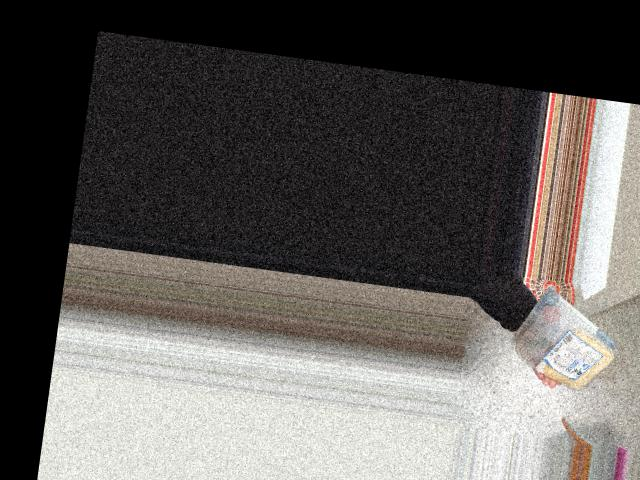cheese: (507, 291, 627, 396)
